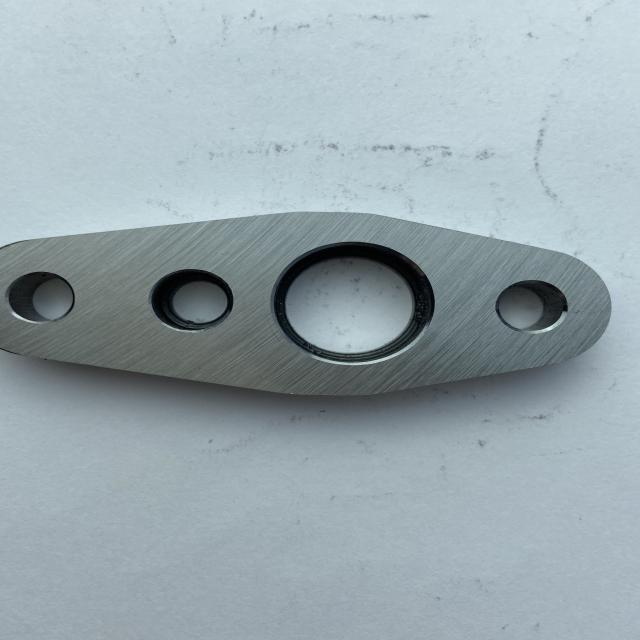chap: (284, 392, 296, 396)
